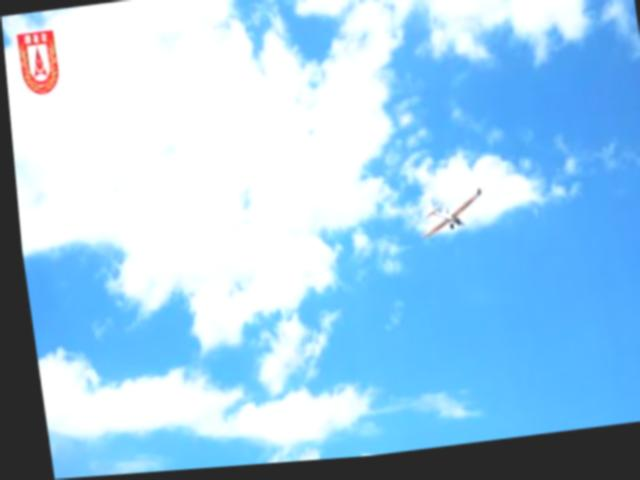uav: (407, 190, 484, 253)
